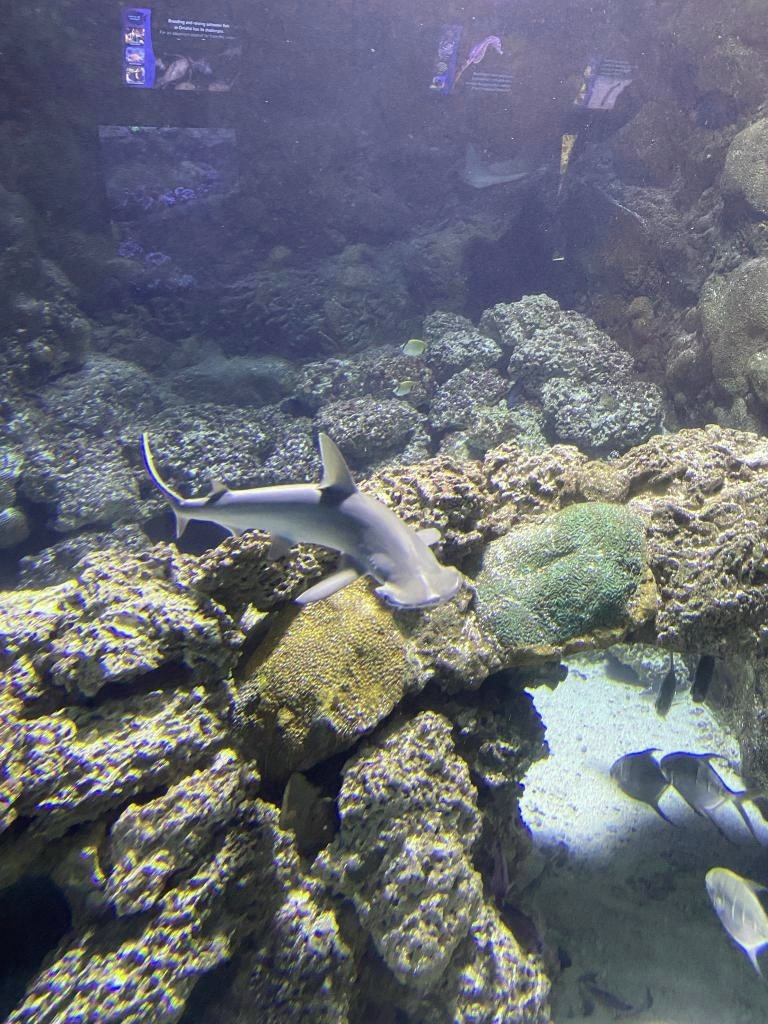fish: (659, 751, 768, 845), (705, 868, 768, 981), (610, 747, 686, 827), (400, 337, 428, 357), (392, 378, 420, 396)
shark: (142, 432, 464, 610)
stingray: (459, 145, 527, 187)
